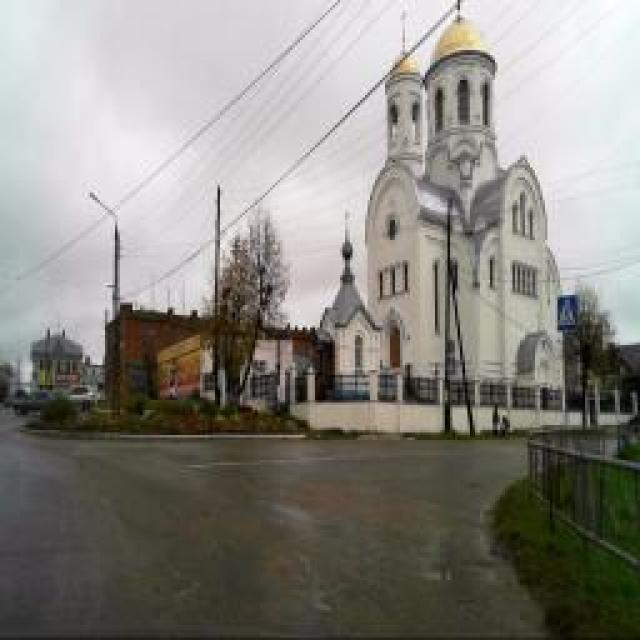sign: (555, 294, 577, 334), (446, 355, 456, 377)
